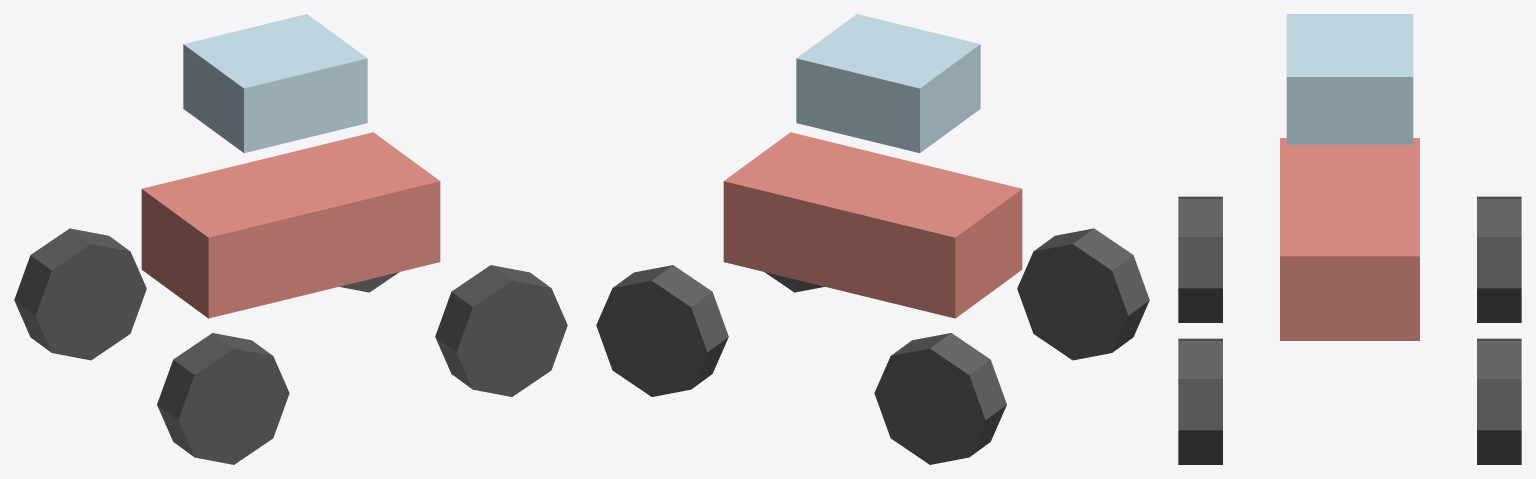
The model's file is car.glb.
3 views of the same model, side by side, from view 1: azimuth 30°, elevation 25°; view 2: azimuth 150°, elevation 25°; view 3: azimuth 270°, elevation 25° (orthographic). The views are drawn at different scales.
Visible parts, largest first — view 1: Body, Cabin, Wheel_-0.45_-0.4, Wheel_-0.45_0.4, Wheel_0.45_-0.4; view 2: Body, Cabin, Wheel_-0.45_0.4, Wheel_-0.45_-0.4, Wheel_0.45_0.4; view 3: Body, Cabin, Wheel_-0.45_-0.4, Wheel_-0.45_0.4, Wheel_0.45_-0.4, Wheel_0.45_0.4.
Boxes of the visible parts, x1,y1,x2,y2 form: Body: (141, 132, 440, 318); Cabin: (183, 14, 367, 152); Wheel_-0.45_-0.4: (157, 333, 289, 464); Wheel_-0.45_0.4: (14, 228, 146, 360); Wheel_0.45_-0.4: (435, 265, 567, 396); Body: (723, 132, 1022, 318); Cabin: (796, 14, 980, 152); Wheel_-0.45_0.4: (874, 333, 1006, 464); Wheel_-0.45_-0.4: (1017, 228, 1149, 360); Wheel_0.45_0.4: (596, 265, 728, 396); Body: (1280, 138, 1419, 340); Cabin: (1286, 14, 1413, 144); Wheel_-0.45_-0.4: (1178, 196, 1222, 322); Wheel_-0.45_0.4: (1477, 196, 1521, 322); Wheel_0.45_-0.4: (1178, 338, 1222, 464); Wheel_0.45_0.4: (1477, 338, 1521, 464).
Size of the model in its own units: 1.26 by 1 by 0.92.
